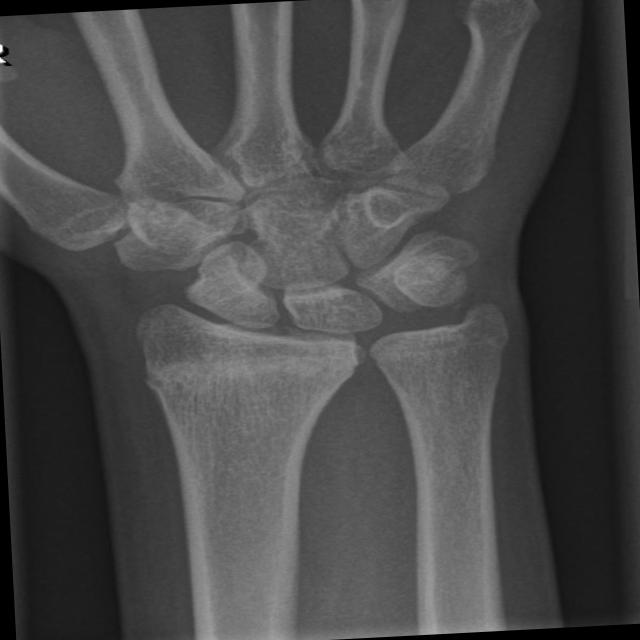fracture: (122, 332, 372, 407), (346, 317, 524, 373)
